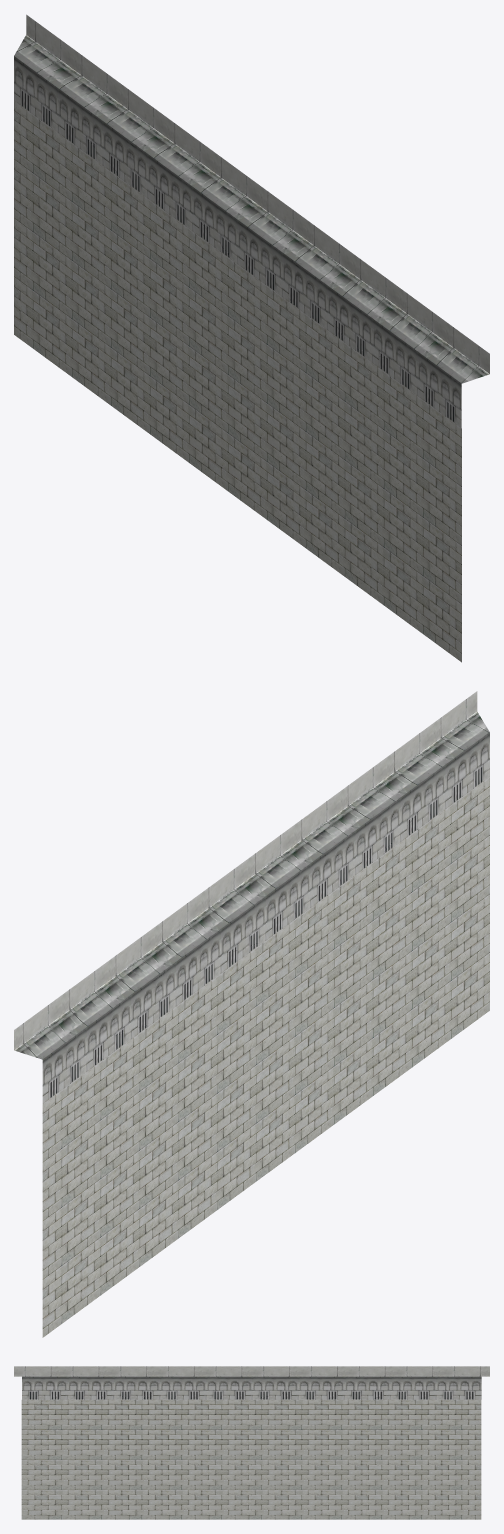
Rendered from HyruleCastle_Wall.obj.
3 renders of one model, top to bottom at view 1: azimuth 30°, elevation 25°; view 2: azimuth 150°, elevation 25°; view 3: azimuth 270°, elevation 25°, orthographic. The views are drawn at different scales.
Parts seen in each view (by area): view 1: node_03718D74_0_1_2_naka_siro_01_45680, node_02FDF917_0_1_2_naka_siro_02_48080; view 2: node_03718D74_0_1_2_naka_siro_01_45680, node_02FDF917_0_1_2_naka_siro_02_48080; view 3: node_03718D74_0_1_2_naka_siro_01_45680, node_02FDF917_0_1_2_naka_siro_02_48080.
Boxes of the visible parts, x1,y1,x2,y2 form: node_03718D74_0_1_2_naka_siro_01_45680: (14,101,461,662); node_02FDF917_0_1_2_naka_siro_02_48080: (14,14,489,427); node_03718D74_0_1_2_naka_siro_01_45680: (42,777,489,1337); node_02FDF917_0_1_2_naka_siro_02_48080: (14,691,489,1103); node_03718D74_0_1_2_naka_siro_01_45680: (21,1399,481,1519); node_02FDF917_0_1_2_naka_siro_02_48080: (14,1366,489,1399).
Bounding box in the file's own units: 0.00664 × 0.0963 × 0.2616.
